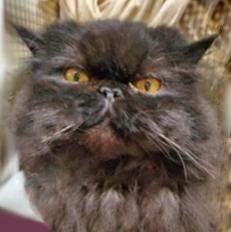persian: (11, 16, 216, 171)
